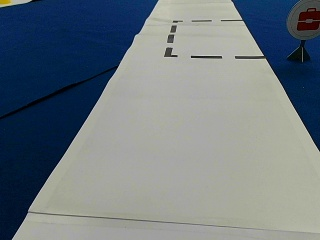company: (287, 0, 319, 39)
